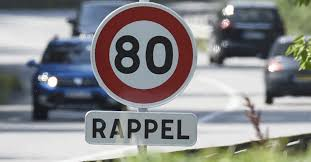Speed_limit_80km: (93, 3, 195, 106)
